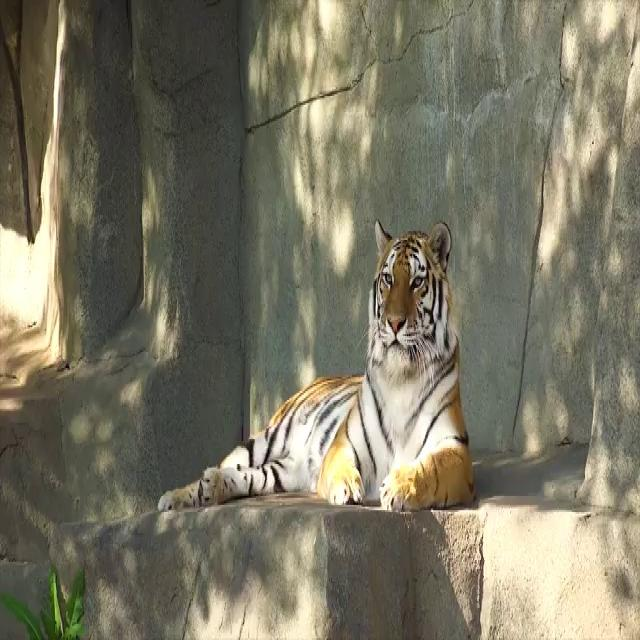tiger: (158, 218, 474, 508)
